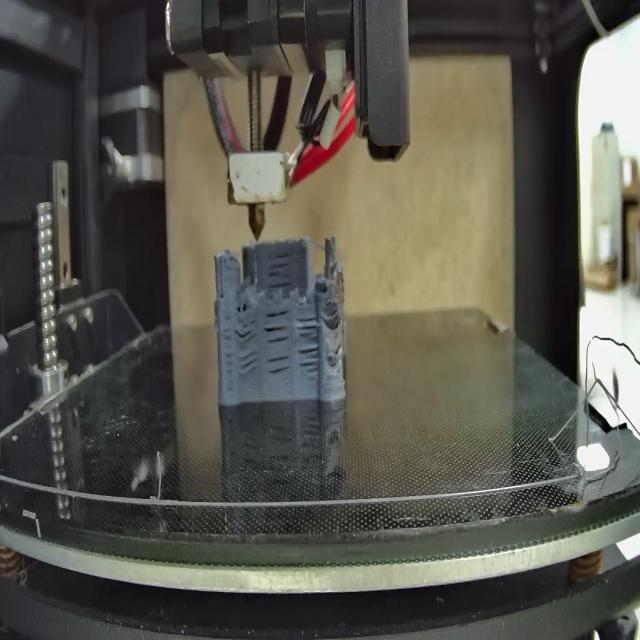cracks: (263, 250, 294, 292), (223, 316, 235, 396), (265, 309, 293, 343), (296, 346, 320, 380), (234, 315, 258, 344), (237, 352, 260, 380), (269, 353, 292, 380), (298, 312, 320, 340), (328, 304, 343, 324), (333, 336, 342, 361), (220, 285, 228, 304)
